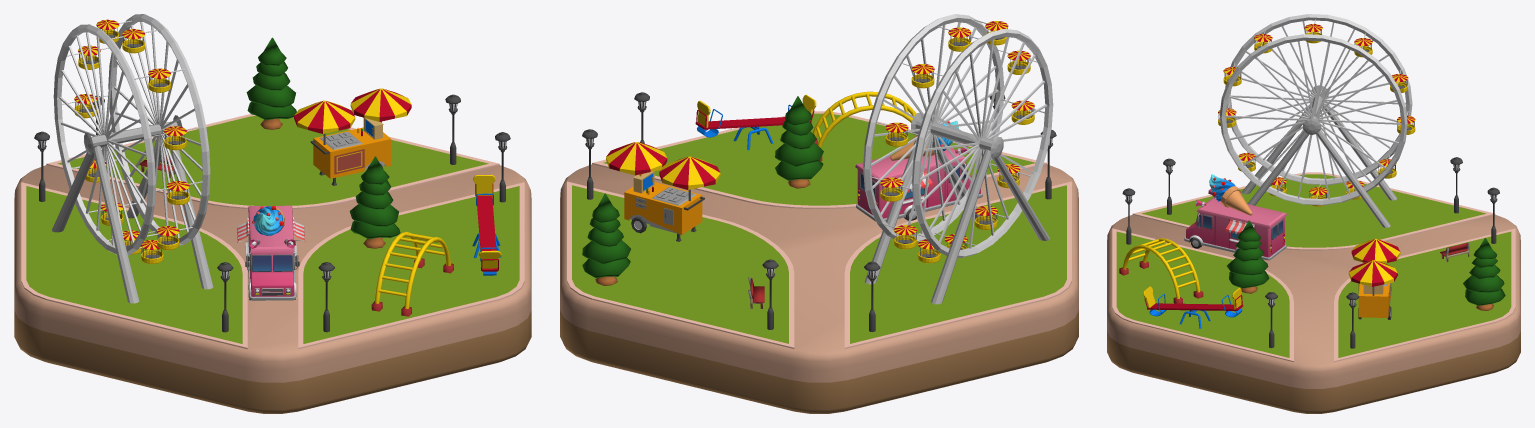
The model's file is Meta 1.fbx.
3 views of the same model, side by side, from view 1: azimuth 30°, elevation 25°; view 2: azimuth 150°, elevation 25°; view 3: azimuth 270°, elevation 25° (orthographic). The views are drawn at different scales.
Visible parts, largest first — view 1: Ground.006, Ground.001, Cube.009, object_0, Car_Ice.001, seasaw.001; view 2: Ground.006, Ground.001, Cube.009, object_0, Car_Ice.001, seasaw.001; view 3: Ground.006, Ground.001, Cube.009, Car_Ice.001, object_0, seasaw.001.
Part boxes in pixels (<box>): Ground.006: <box>21,37,524,349</box>; Ground.001: <box>14,165,531,413</box>; Cube.009: <box>52,14,213,303</box>; object_0: <box>294,88,411,185</box>; Car_Ice.001: <box>237,205,305,300</box>; seasaw.001: <box>371,174,501,316</box>; Ground.006: <box>567,92,1071,348</box>; Ground.001: <box>560,164,1078,413</box>; Cube.009: <box>863,14,1053,304</box>; object_0: <box>606,142,720,241</box>; Car_Ice.001: <box>855,120,982,221</box>; seasaw.001: <box>695,91,916,160</box>; Ground.006: <box>1112,157,1515,361</box>; Ground.001: <box>1107,214,1520,413</box>; Cube.009: <box>1218,14,1415,227</box>; Car_Ice.001: <box>1184,174,1286,260</box>; object_0: <box>1348,239,1400,319</box>; seasaw.001: <box>1119,238,1243,328</box>.
Size of the model in its own units: 642 by 369 by 576.
